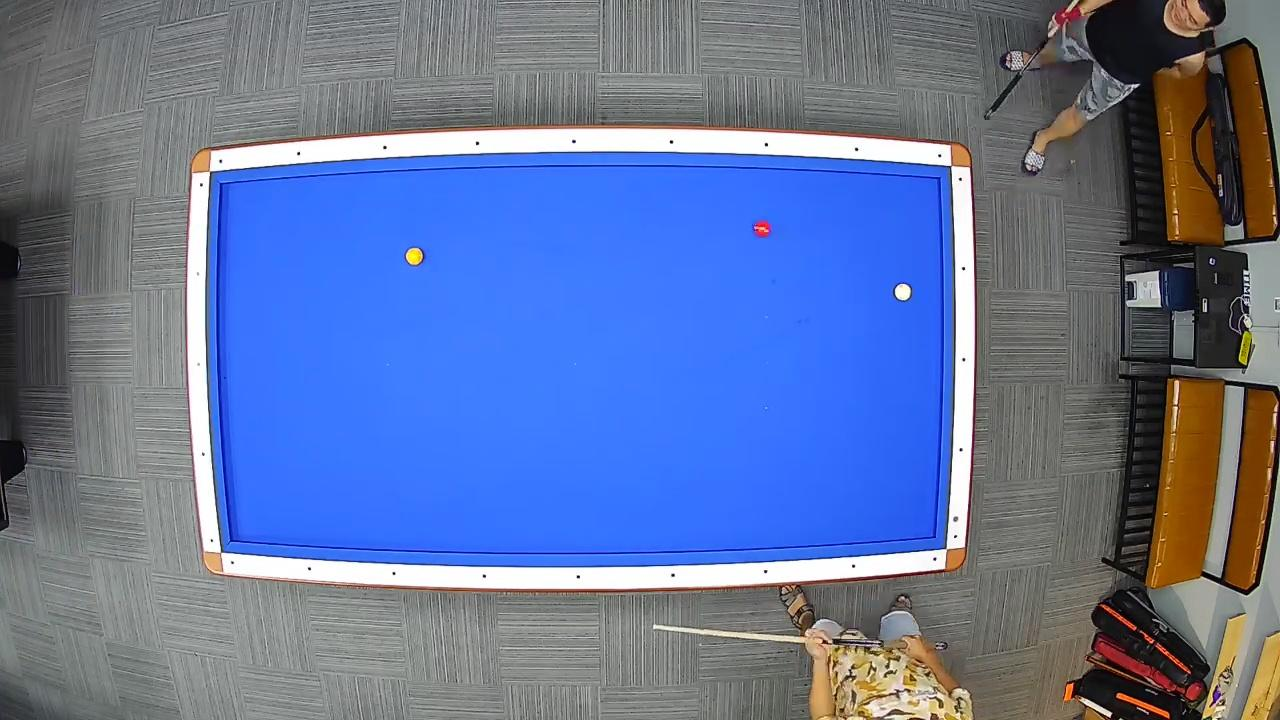Red: (751, 221, 772, 239)
White: (893, 282, 912, 304)
Yellow: (404, 248, 424, 266)
